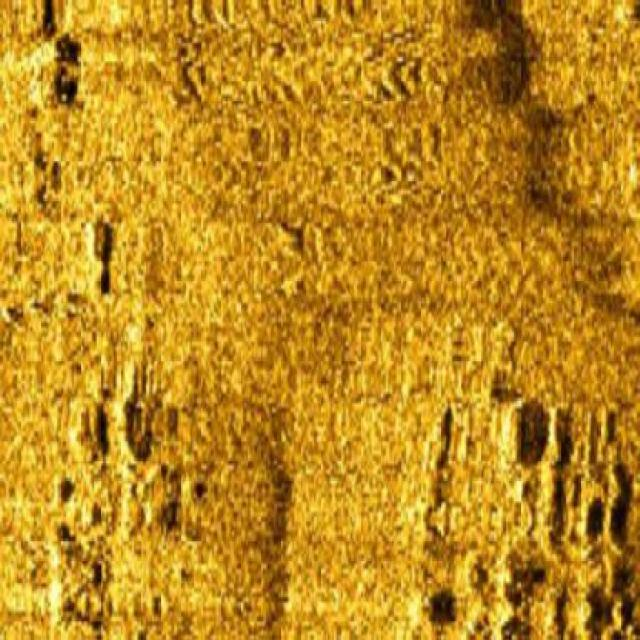bedrock group: (377, 387, 638, 639)
